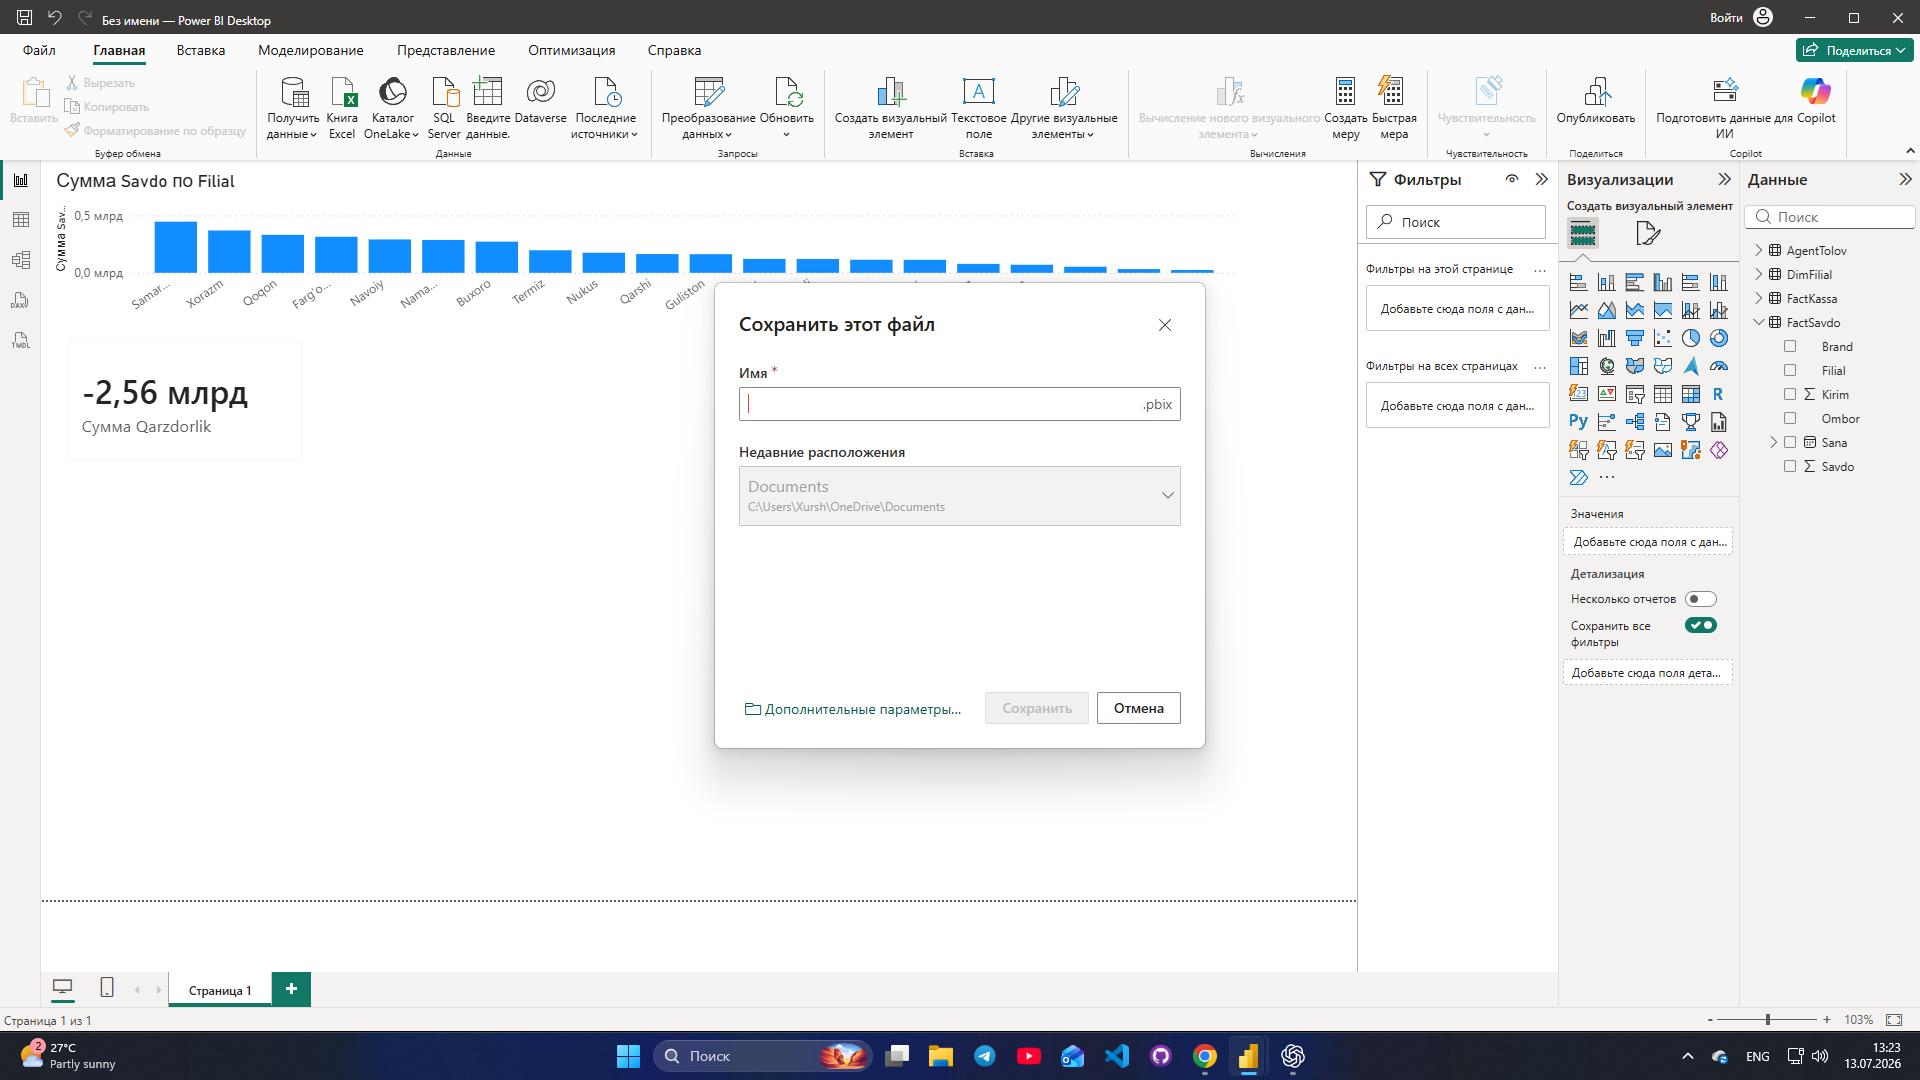

The dashboard page shown, as its layout file describes it:
{"tool":"powerbi","page":{"name":"Страница 1","canvas":[1280,720],"ordinal":0},"visuals":[{"type":"cardVisual","fields":{"Data":["Sum(FactSavdo.Savdo)"]},"box":[9.7,0,260.7,125.5],"z":0},{"type":"cardVisual","fields":{"Data":["Sum(FactKassa.Qarzdorlik)"]},"box":[10,159.5,261,150],"z":2},{"type":"clusteredColumnChart","fields":{"Category":["FactSavdo.Filial"],"Y":["Sum(FactSavdo.Savdo)"]},"box":[10,10,1157,150],"z":3}]}

Visuals, with their boxes on the page's 1280x720 design canvas (x1, y1, x2, y2). These are canvas units, not pixel positions in the 1920x1080 screenshot, which may show the page scaled, cropped or inside an application window:
cardVisual - Sum(FactSavdo.Savdo): detection(10, 0, 270, 126)
cardVisual - Sum(FactKassa.Qarzdorlik): detection(10, 160, 271, 310)
clusteredColumnChart - FactSavdo.Filial x Sum(FactSavdo.Savdo): detection(10, 10, 1167, 160)
